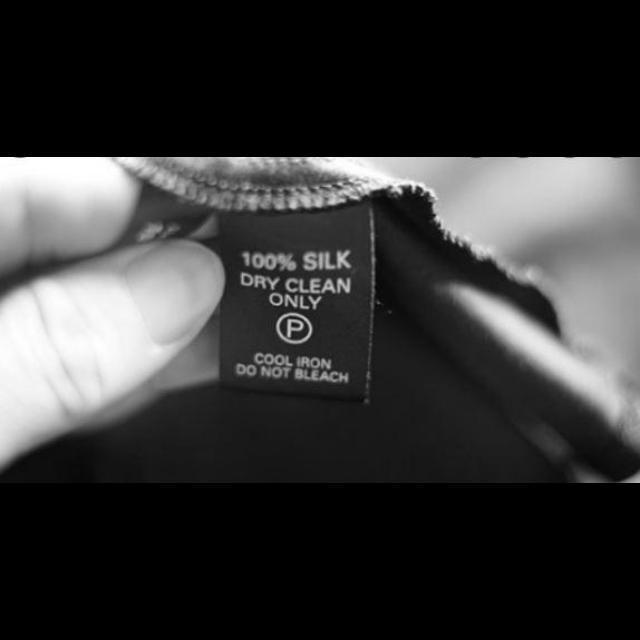normal_dry_clean_solvents: (272, 308, 314, 348)
